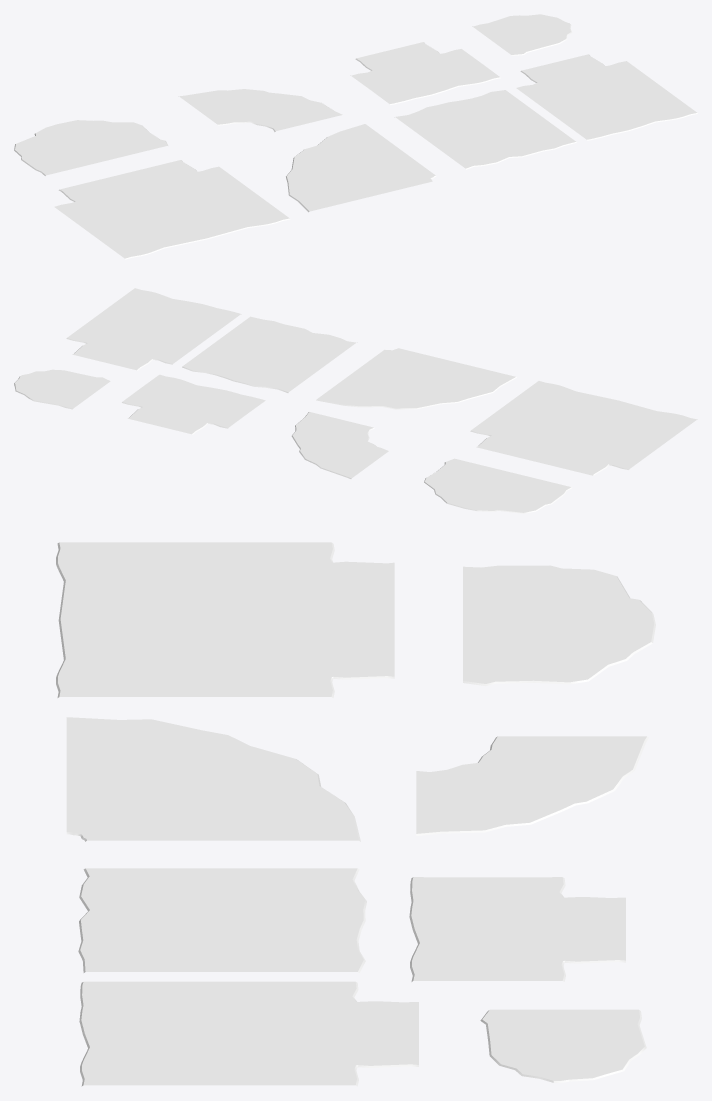
The model's file is park paths.fbx.
3 renders of one model, top to bottom at view 1: azimuth 30°, elevation 25°; view 2: azimuth 150°, elevation 25°; view 3: azimuth 270°, elevation 25°, orthographic. The views are drawn at different scales.
Visible parts, largest first — view 1: T_junction_narow1, T_junction_narow, straight_road, right_anngle_road, T_junction_narow_and_thin, road_end, right_angle_road_thin, road_end_thin; view 2: T_junction_narow1, T_junction_narow, right_anngle_road, straight_road, road_end, T_junction_narow_and_thin, right_angle_road_thin, road_end_thin; view 3: T_junction_narow1, T_junction_narow, straight_road, right_anngle_road, T_junction_narow_and_thin, road_end, right_angle_road_thin, road_end_thin.
Part boxes in pixels (<box>): T_junction_narow1: <box>54,160,290,259</box>; T_junction_narow: <box>516,54,697,140</box>; straight_road: <box>395,90,576,169</box>; right_anngle_road: <box>286,124,436,212</box>; T_junction_narow_and_thin: <box>351,42,500,104</box>; road_end: <box>14,120,168,175</box>; right_angle_road_thin: <box>179,89,342,131</box>; road_end_thin: <box>472,14,572,55</box>; T_junction_narow1: <box>470,381,697,476</box>; T_junction_narow: <box>66,288,241,370</box>; right_anngle_road: <box>316,348,516,409</box>; straight_road: <box>182,316,356,392</box>; road_end: <box>424,458,571,513</box>; T_junction_narow_and_thin: <box>122,374,265,434</box>; right_angle_road_thin: <box>291,412,388,478</box>; road_end_thin: <box>14,369,110,409</box>; T_junction_narow1: <box>56,542,394,697</box>; T_junction_narow: <box>79,981,418,1086</box>; straight_road: <box>78,868,366,972</box>; right_anngle_road: <box>66,717,360,841</box>; T_junction_narow_and_thin: <box>409,877,625,981</box>; road_end: <box>463,565,655,685</box>; right_angle_road_thin: <box>416,736,648,835</box>; road_end_thin: <box>480,1009,646,1082</box>.
Size of the model in its own units: 3128 by 4.1 by 1461.
